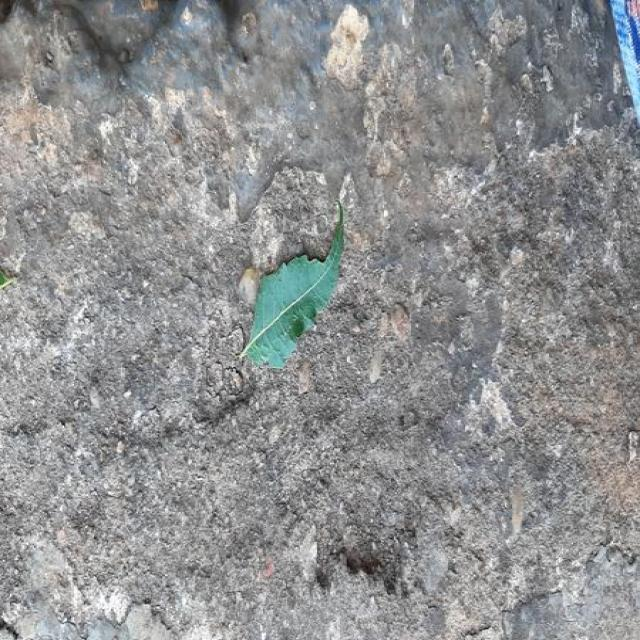neem: (240, 202, 343, 368)
